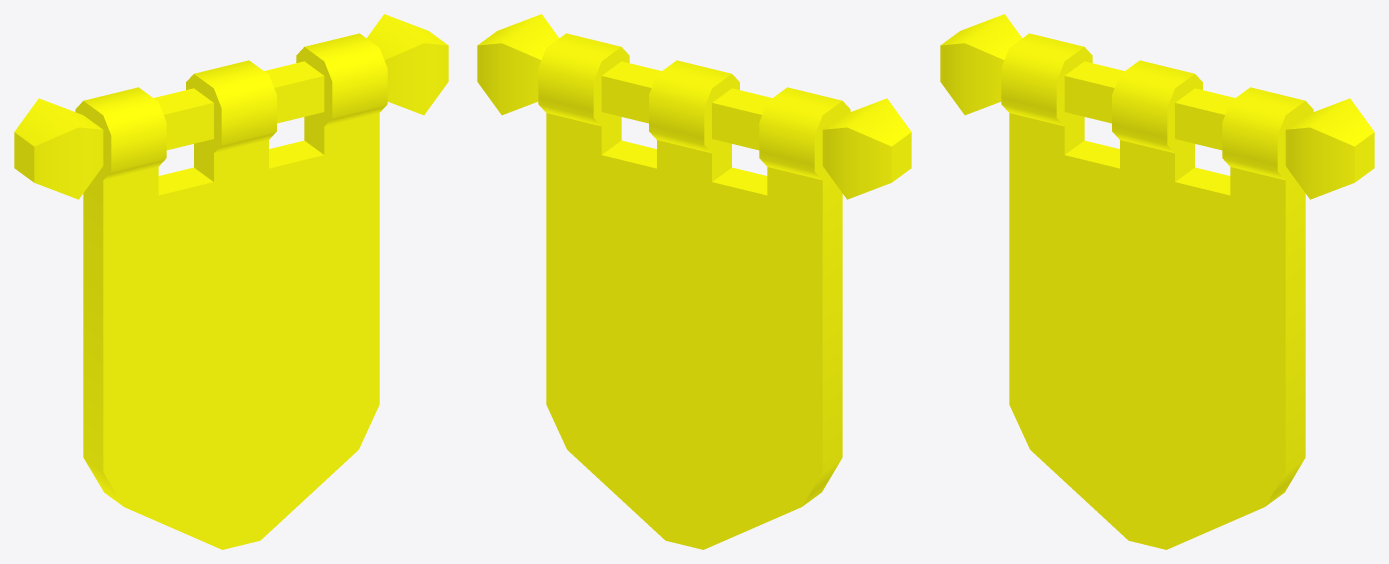
File: _更多模型_mini-dungeon_banner.glb
The picture shows the model from 3 angles, left to right: view 1: azimuth 30°, elevation 25°; view 2: azimuth 150°, elevation 25°; view 3: azimuth 330°, elevation 25°; orthographic projection.
Visible parts, largest first — view 1: banner; view 2: banner; view 3: banner.
Boxes of the visible parts, x1,y1,x2,y2 form: banner: (14, 14, 448, 549); banner: (477, 14, 911, 549); banner: (940, 14, 1374, 549).
Bounding box in the file's own units: 0.6 × 0.6465 × 0.1.
Materials: 1 (1 with a texture image).
